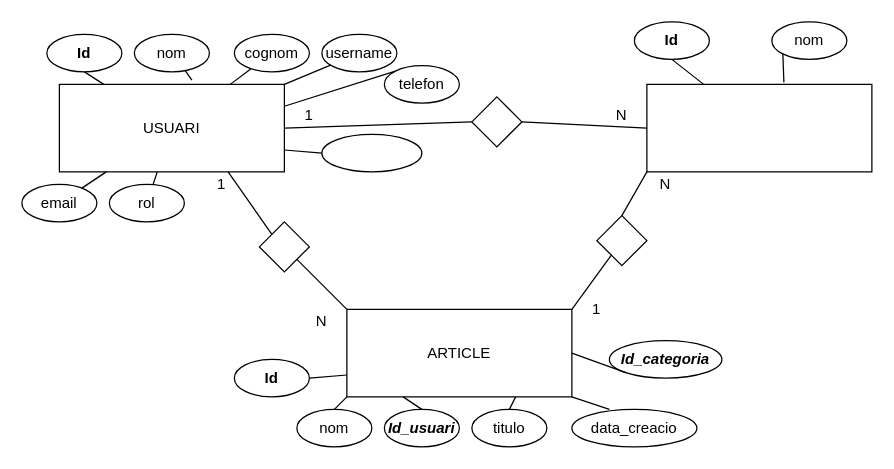
The diagram is 894 pixels wide and 469 high, and some of its shapes have lost their labels. Here are the shapes that lost their labels. From the top down, the centre of each, then its label:
the point at 496,121: crea
the point at 759,127: CATEGORIA
the point at 371,152: contrasenya
the point at 283,246: fa
the point at 621,240: té
